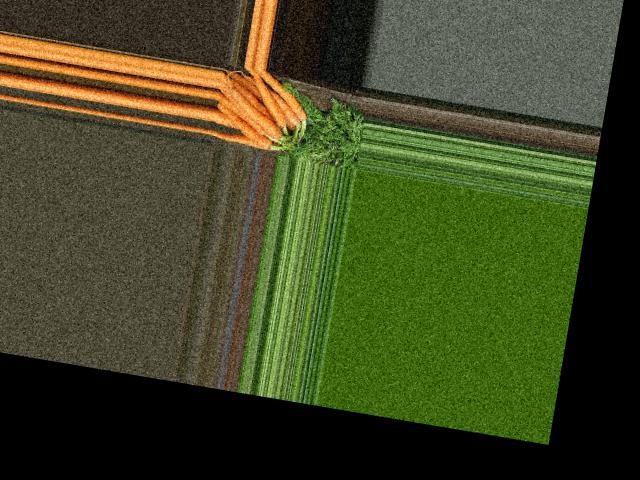carrot: (209, 100, 279, 151)
